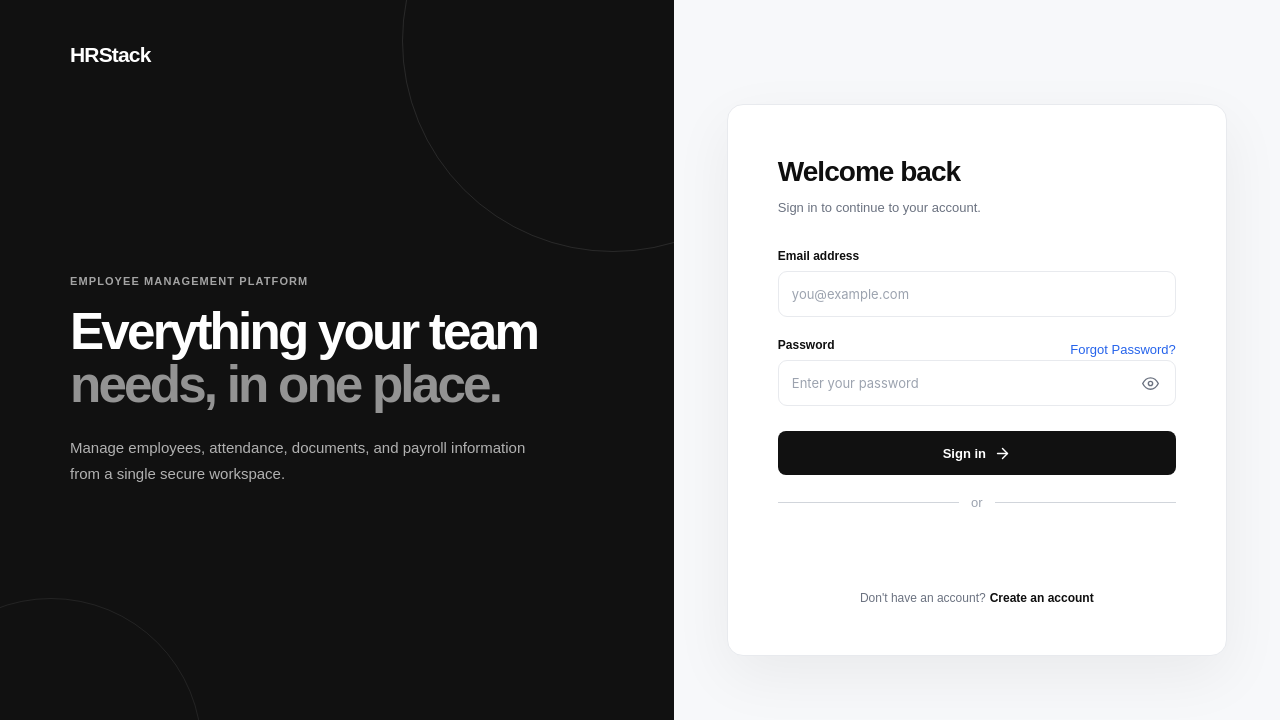
Scenario: Login page › shows an error and stays on the OTP step when the OTP is wrong
The image size is (1280, 720).
In the field labelled "Email address": (977, 294) [778,271,1176,317], type "user@example.com"
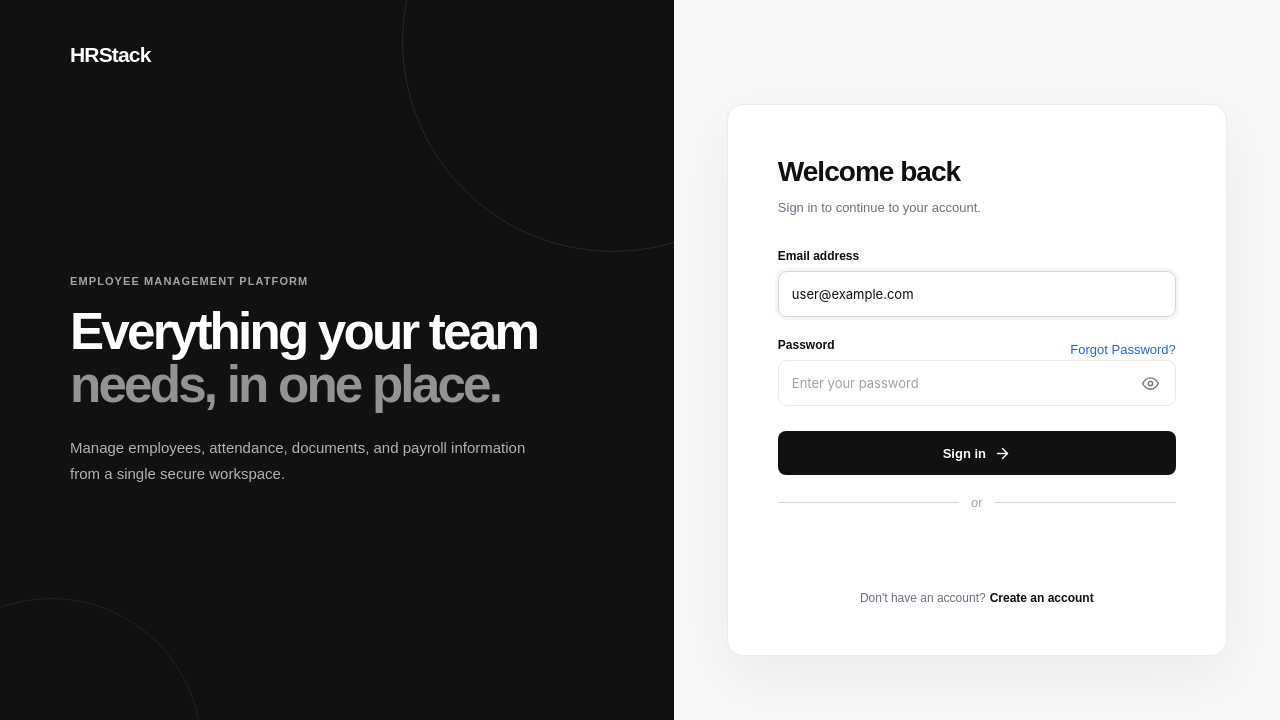
In the password field labelled "Password": (977, 383) [778,360,1176,406], type "Test@1234"
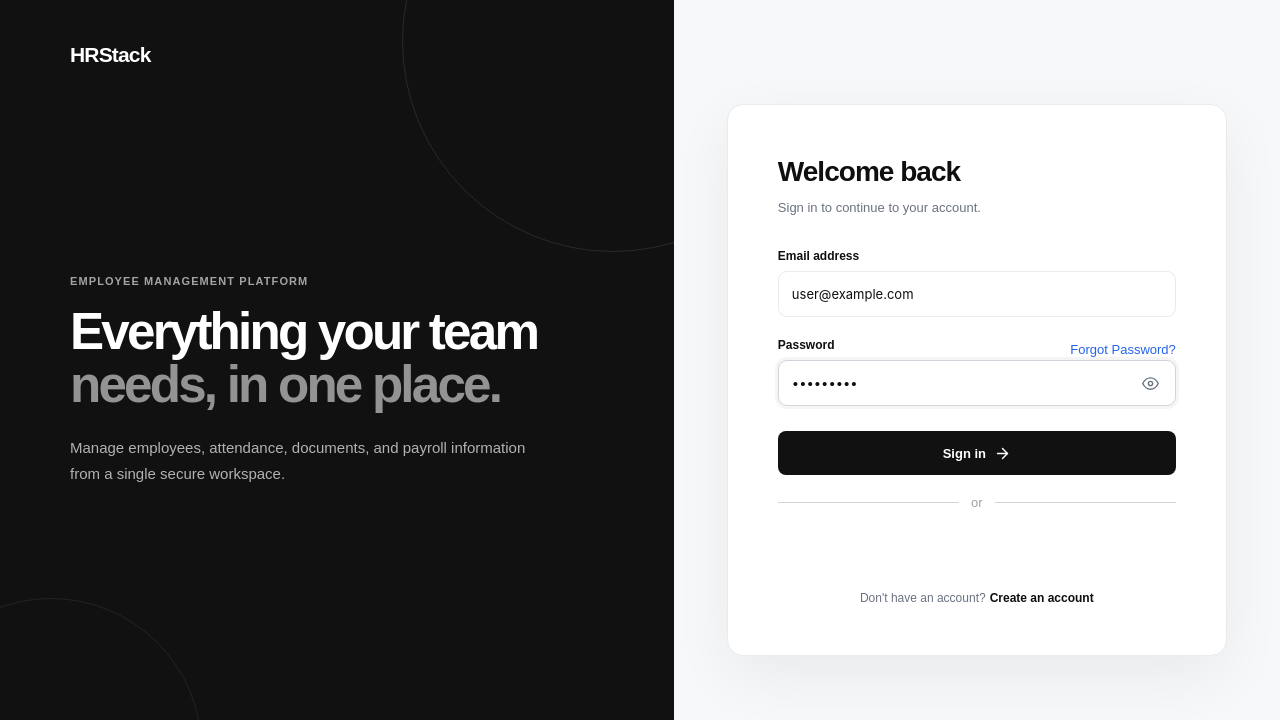
Click the button "Sign in": (977, 453) [778,431,1176,475]
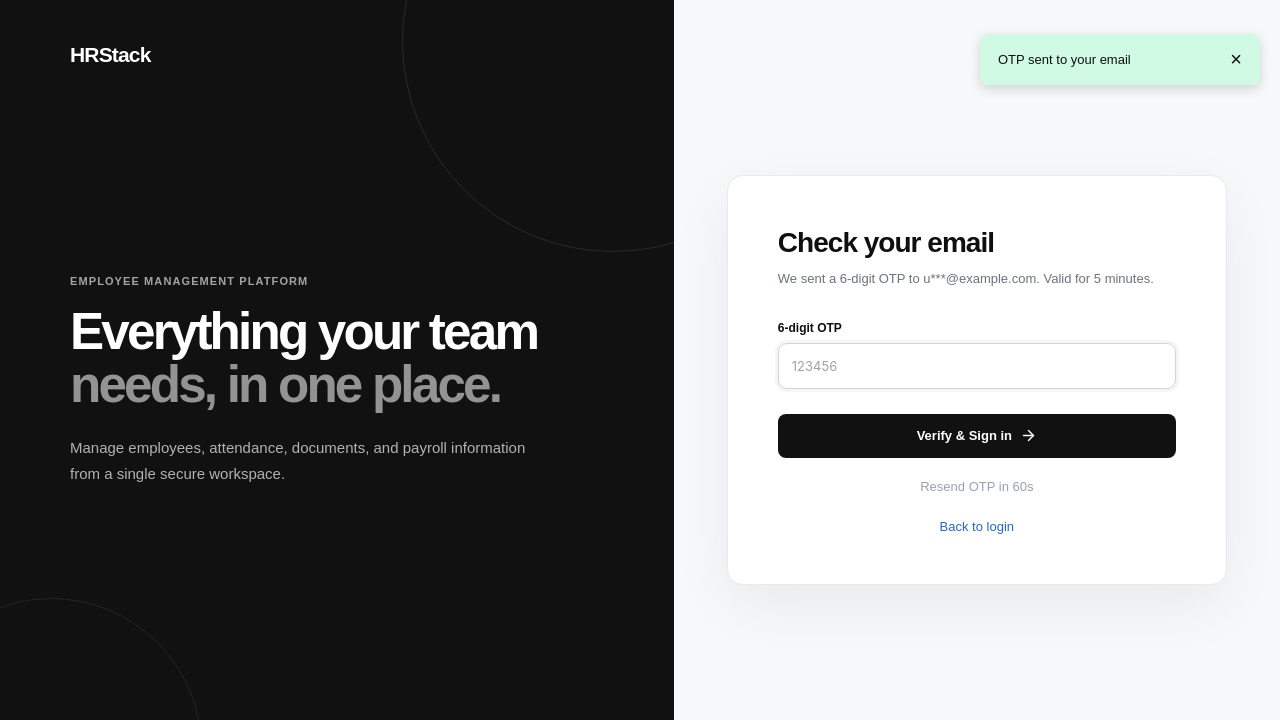
In the field labelled "6-digit OTP": (977, 366) [778,342,1176,388], type "000000"
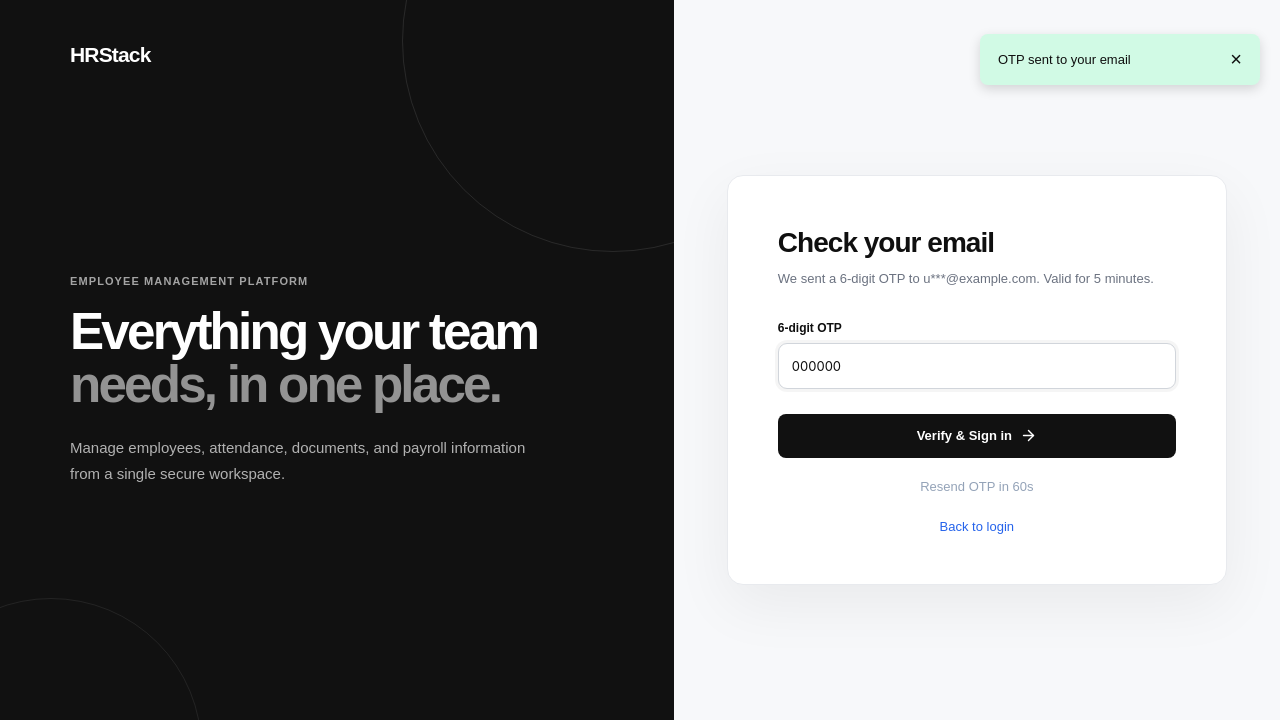
Click the button "Verify & Sign in": (977, 436) [778,414,1176,458]
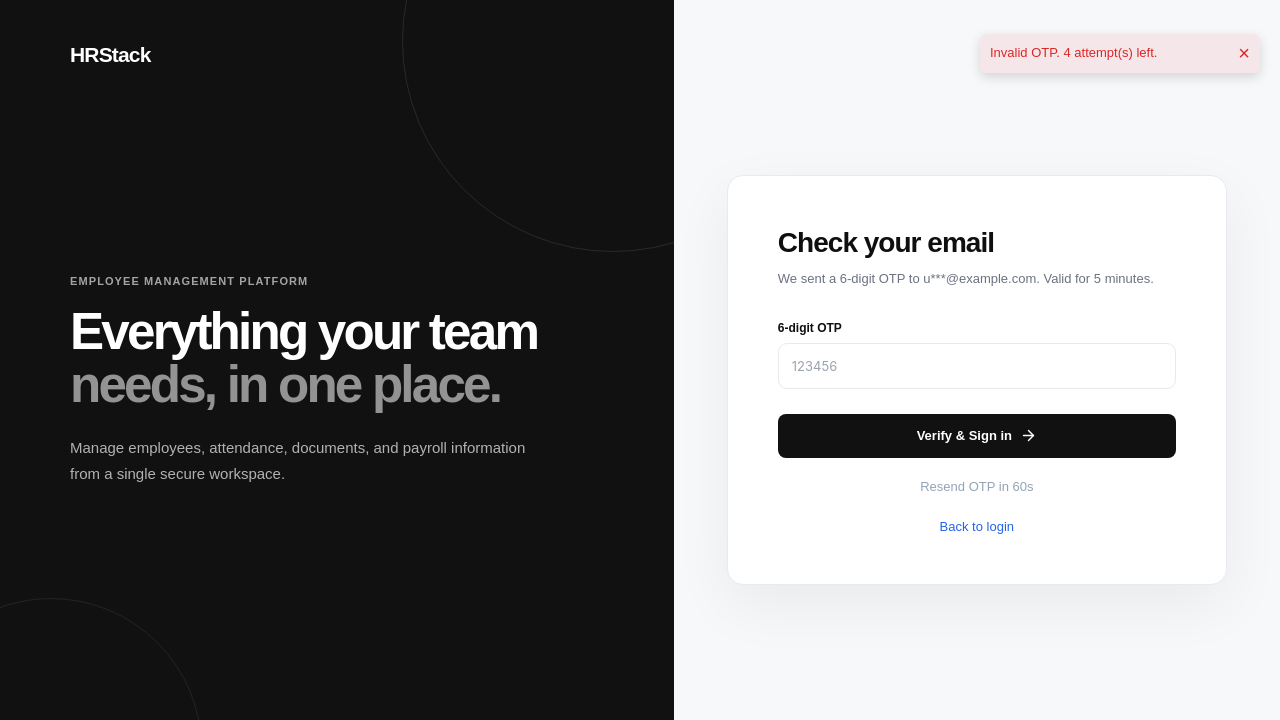
Expected: the field labelled "6-digit OTP" is shown, [778,342,1176,388]
Expected: the message shows "Invalid OTP", [990,45,1157,60]
